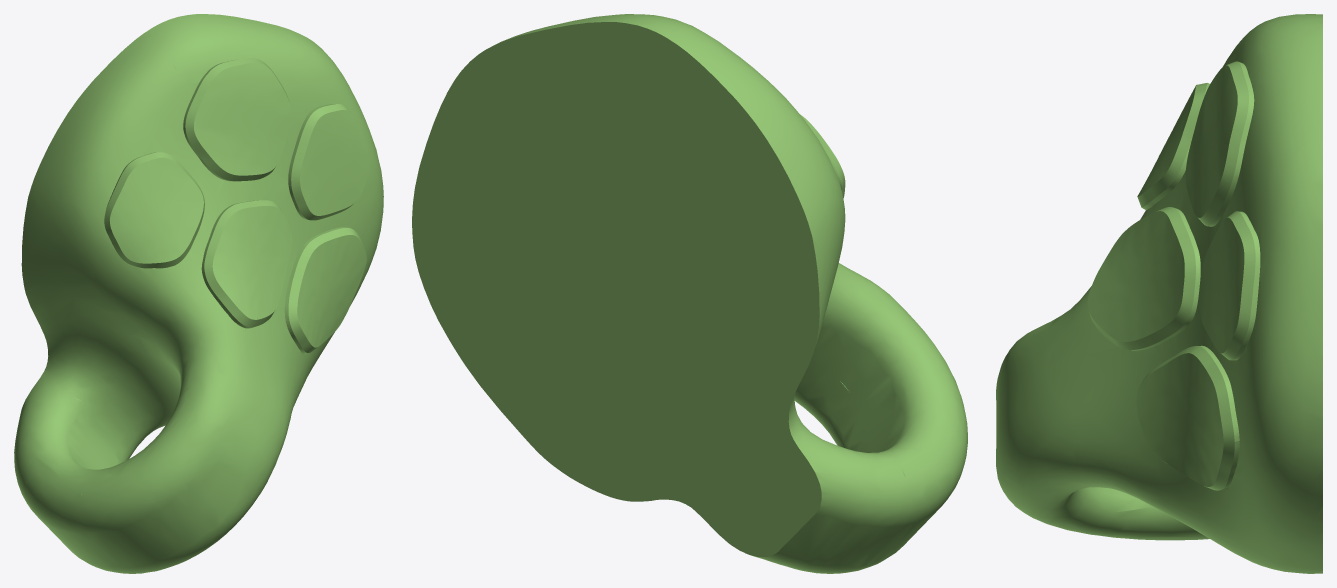
3 views of the same model, side by side, from view 1: azimuth 30°, elevation 25°; view 2: azimuth 150°, elevation 25°; view 3: azimuth 270°, elevation 25° (orthographic). The views are drawn at different scales.
Parts seen in each view (by area): view 1: mesh3236; view 2: mesh3236; view 3: mesh3236.
Part boxes in pixels (left/top/right/bottom): mesh3236: left=14, top=14, right=383, bottom=573; mesh3236: left=412, top=14, right=967, bottom=573; mesh3236: left=996, top=14, right=1322, bottom=573.
Size of the model in its own units: 0.0902 by 0.1023 by 0.0509.
